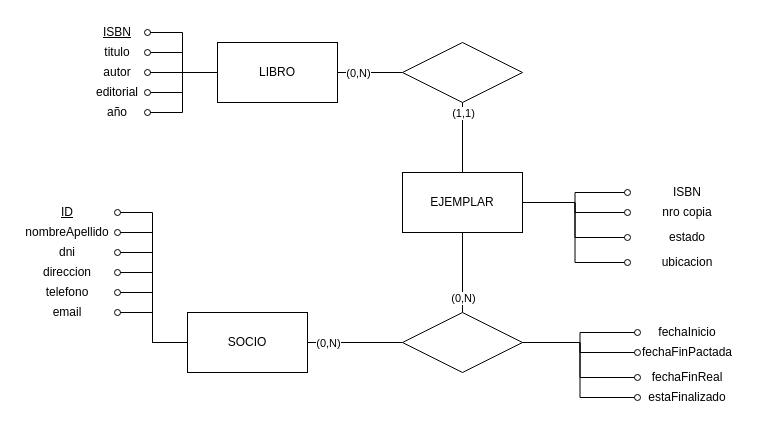
This 764x429 diagram has some shape labels left out. Each missing label, with the centre of its shape:
posee: the point at 462,72
PRESTAMO: the point at 462,342
